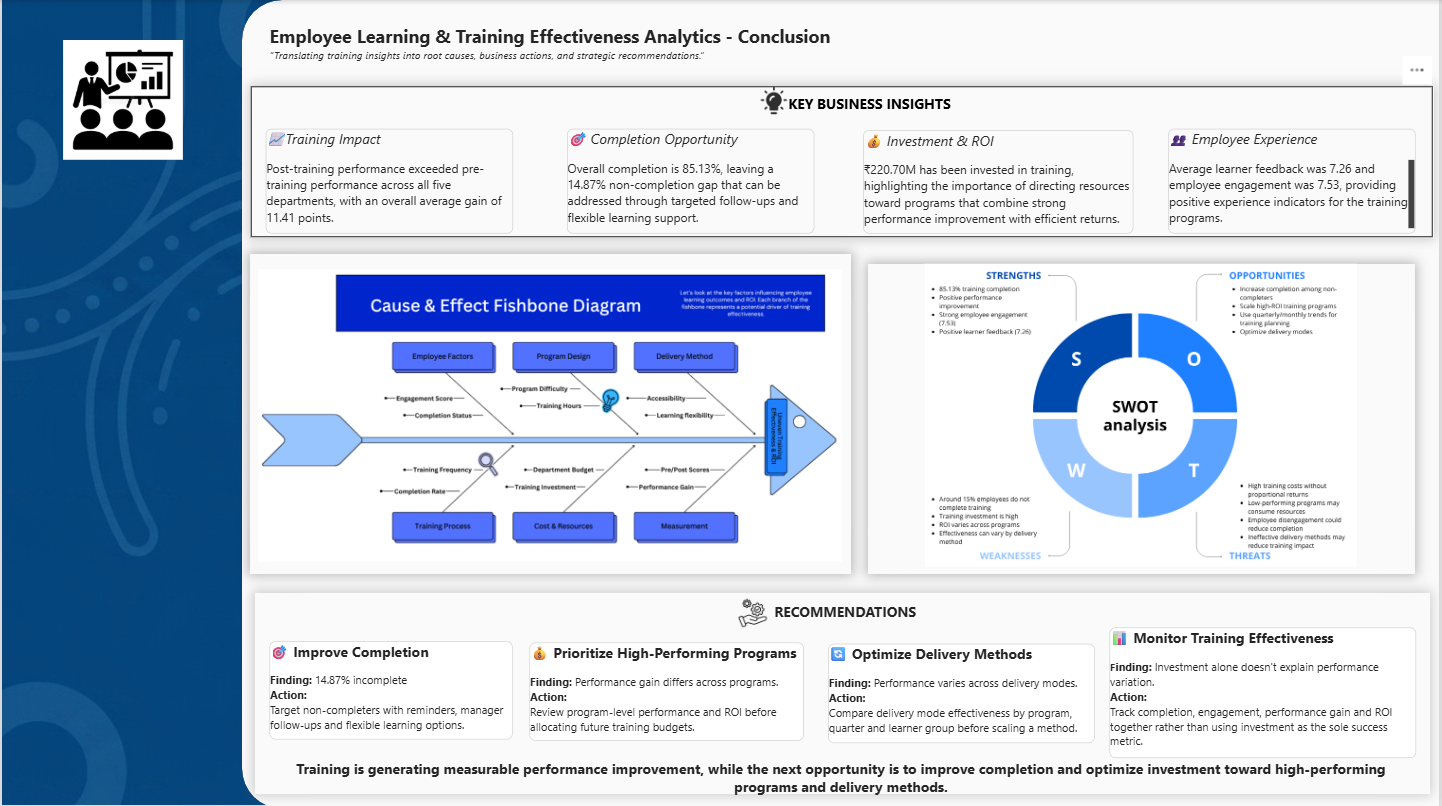

The page's visual inventory and layout, read from the dashboard file:
{"tool":"powerbi","page":{"name":"Conclusion","canvas":[1920,1080],"ordinal":2},"visuals":[{"type":"shape","box":[320,0,1599.4,1080.4],"z":0},{"type":"textbox","title":"📈Training Impact","box":[352,172,330,140],"z":0,"group":"g1"},{"type":"shape","box":[326,16,1586.5,93.9],"z":1000},{"type":"textbox","title":"🎯 Completion Opportunity","box":[754,172,330,140],"z":1000,"group":"g1"},{"type":"textbox","box":[358,32,810,64],"z":2000},{"type":"textbox","title":"💰 Investment & ROI","box":[1150.8,173.8,360.7,138],"z":2000,"group":"g1"},{"type":"shape","box":[332,116,1580,202],"z":3000},{"type":"textbox","title":"👥 Employee Experience","box":[1558,172,330,140],"z":3000,"group":"g1"},{"type":"group","id":"g1","title":"Group 1","box":[352,172,1536,140],"z":4000},{"type":"group","id":"g2","title":"Group 2","box":[1012,116,290,56],"z":5000},{"type":"textbox","box":[1050,126,252,46],"z":5000,"group":"g2"},{"type":"shape","box":[331.3,338.7,804.3,427],"z":6000},{"type":"image","box":[1012,116,38,38],"z":7000,"group":"g2"},{"type":"image","box":[342.3,351.5,780.4,404.9],"z":7000},{"type":"shape","box":[1157.7,351.5,730.7,414.1],"z":8000},{"type":"image","box":[1168.7,351.5,704.9,404.9],"z":9000},{"type":"shape","box":[336.8,791.4,1569.9,268.7],"z":10000},{"type":"textbox","box":[342.3,804.3,1568.1,35],"z":11000},{"type":"textbox","title":"🎯 Improve Completion","box":[357.6,856.4,324.4,130.8],"z":12000},{"type":"textbox","title":"💰 Prioritize High-Performing Programs","box":[704.7,858.1,366.3,130.8],"z":13000},{"type":"textbox","title":"🔄 Optimize Delivery Methods","box":[1104.1,859.9,355.8,132.6],"z":14000},{"type":"textbox","title":"📊 Monitor Training Effectiveness","box":[1479.1,839,409.9,174.4],"z":15000},{"type":"textbox","box":[352.3,1013.4,1536.6,66.3],"z":16000},{"type":"image","box":[77.3,53.4,169.3,160.1],"z":17000},{"type":"image","box":[975.5,800.6,55.2,38.7],"z":18000}]}

Visuals, with their boxes in screenshot pixels (x1, y1, x2, y2), scaled from the page's 1920x1080 canvas onto the 1442x806 screenshot:
shape: {"left": 240, "top": 0, "right": 1441, "bottom": 805}
"📈Training Impact" textbox: {"left": 264, "top": 128, "right": 512, "bottom": 233}
shape: {"left": 245, "top": 12, "right": 1436, "bottom": 82}
"🎯 Completion Opportunity" textbox: {"left": 566, "top": 128, "right": 814, "bottom": 233}
textbox: {"left": 269, "top": 24, "right": 877, "bottom": 72}
"💰 Investment & ROI" textbox: {"left": 864, "top": 130, "right": 1135, "bottom": 233}
shape: {"left": 249, "top": 87, "right": 1436, "bottom": 237}
"👥 Employee Experience" textbox: {"left": 1170, "top": 128, "right": 1418, "bottom": 233}
"Group 1" group: {"left": 264, "top": 128, "right": 1418, "bottom": 233}
"Group 2" group: {"left": 760, "top": 87, "right": 978, "bottom": 128}
textbox: {"left": 789, "top": 94, "right": 978, "bottom": 128}
shape: {"left": 249, "top": 253, "right": 853, "bottom": 571}
image: {"left": 760, "top": 87, "right": 789, "bottom": 115}
image: {"left": 257, "top": 262, "right": 843, "bottom": 564}
shape: {"left": 869, "top": 262, "right": 1418, "bottom": 571}
image: {"left": 878, "top": 262, "right": 1407, "bottom": 564}
shape: {"left": 253, "top": 591, "right": 1432, "bottom": 791}
textbox: {"left": 257, "top": 600, "right": 1435, "bottom": 626}
"🎯 Improve Completion" textbox: {"left": 269, "top": 639, "right": 512, "bottom": 737}
"💰 Prioritize High-Performing Programs" textbox: {"left": 529, "top": 640, "right": 804, "bottom": 738}
"🔄 Optimize Delivery Methods" textbox: {"left": 829, "top": 642, "right": 1096, "bottom": 741}
"📊 Monitor Training Effectiveness" textbox: {"left": 1111, "top": 626, "right": 1419, "bottom": 756}
textbox: {"left": 265, "top": 756, "right": 1419, "bottom": 805}
image: {"left": 58, "top": 40, "right": 185, "bottom": 159}
image: {"left": 733, "top": 597, "right": 774, "bottom": 626}
